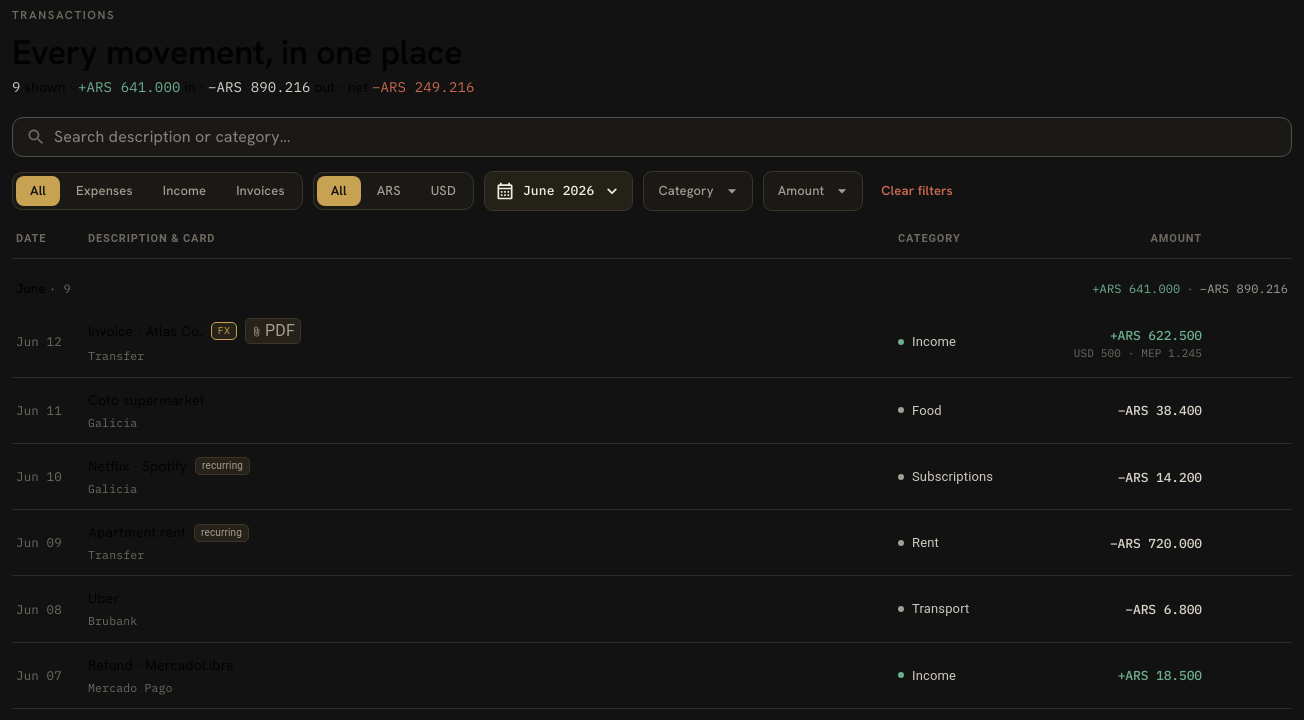
Test: TransactionsPage filtering › a type filter narrows rows and recomputes the totals
Click the button with aria-label "Month:" at (559,191), box top-left (484, 171), bottom-right (634, 211)
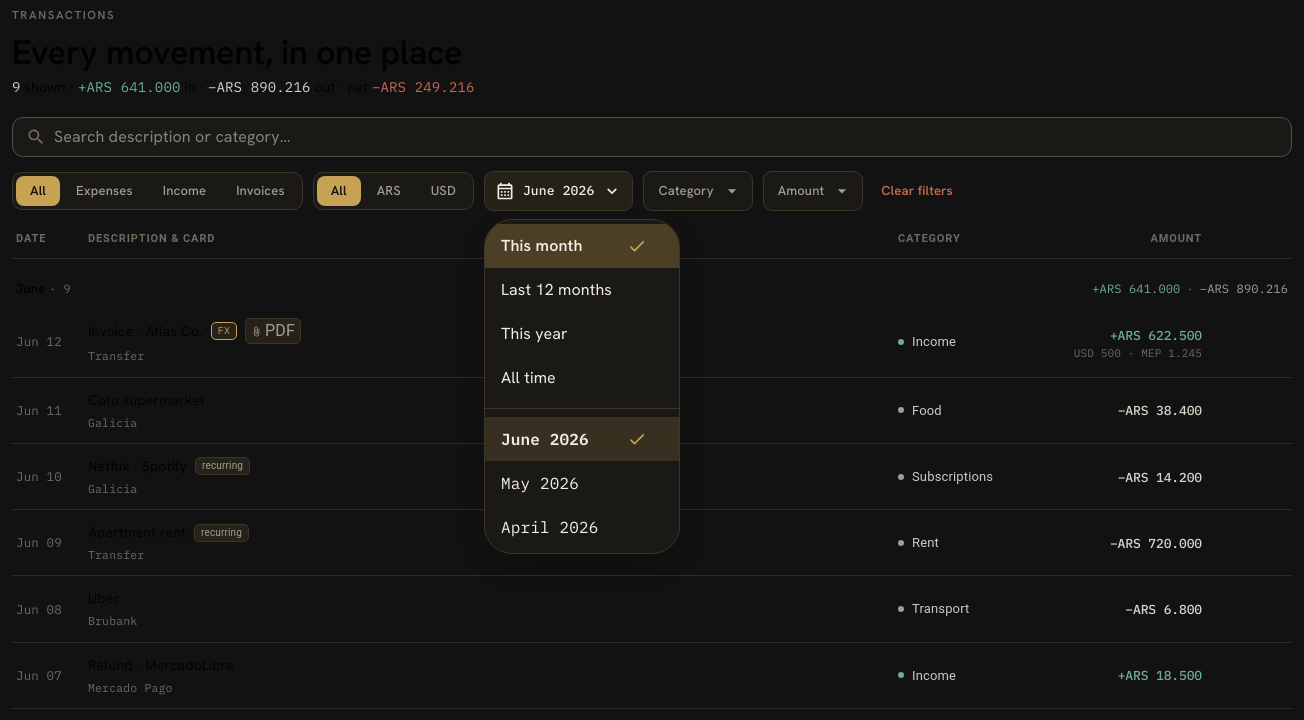
Click the menu item "All time" at (528,378), box top-left (501, 367), bottom-right (556, 388)
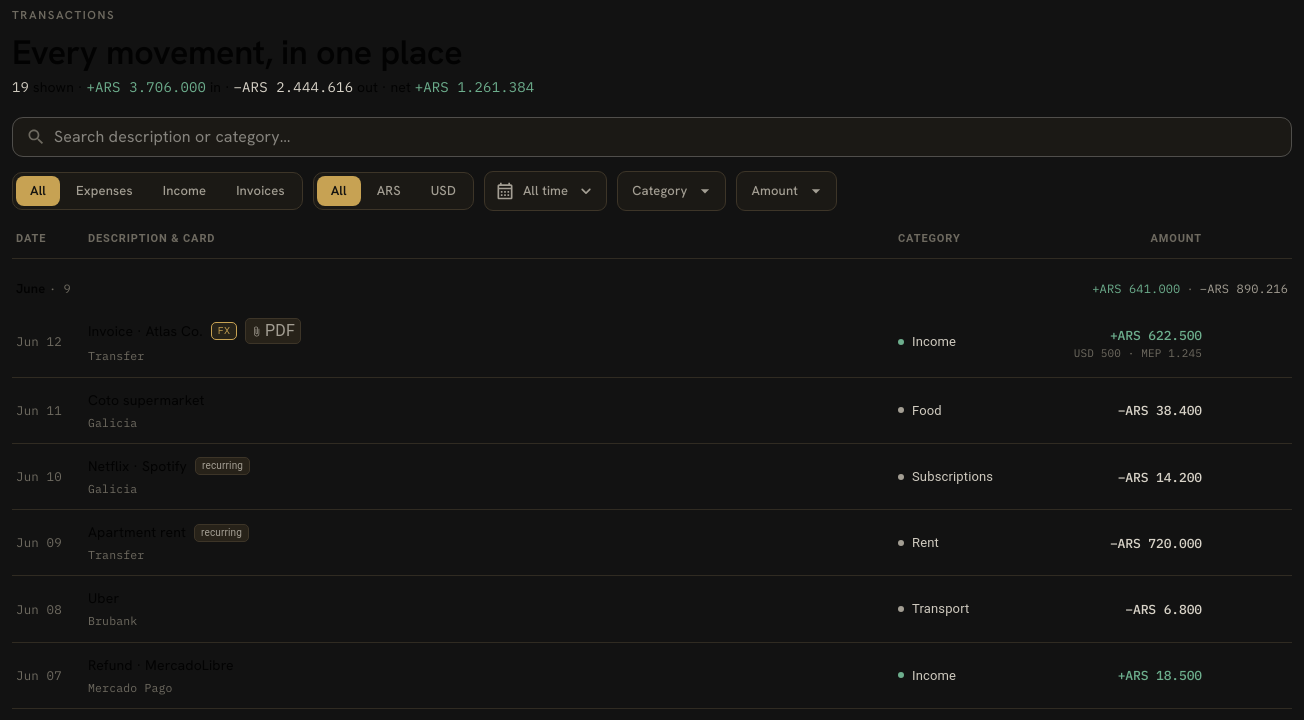
Click the button "Invoices" at (260,191), box top-left (222, 176), bottom-right (299, 206)
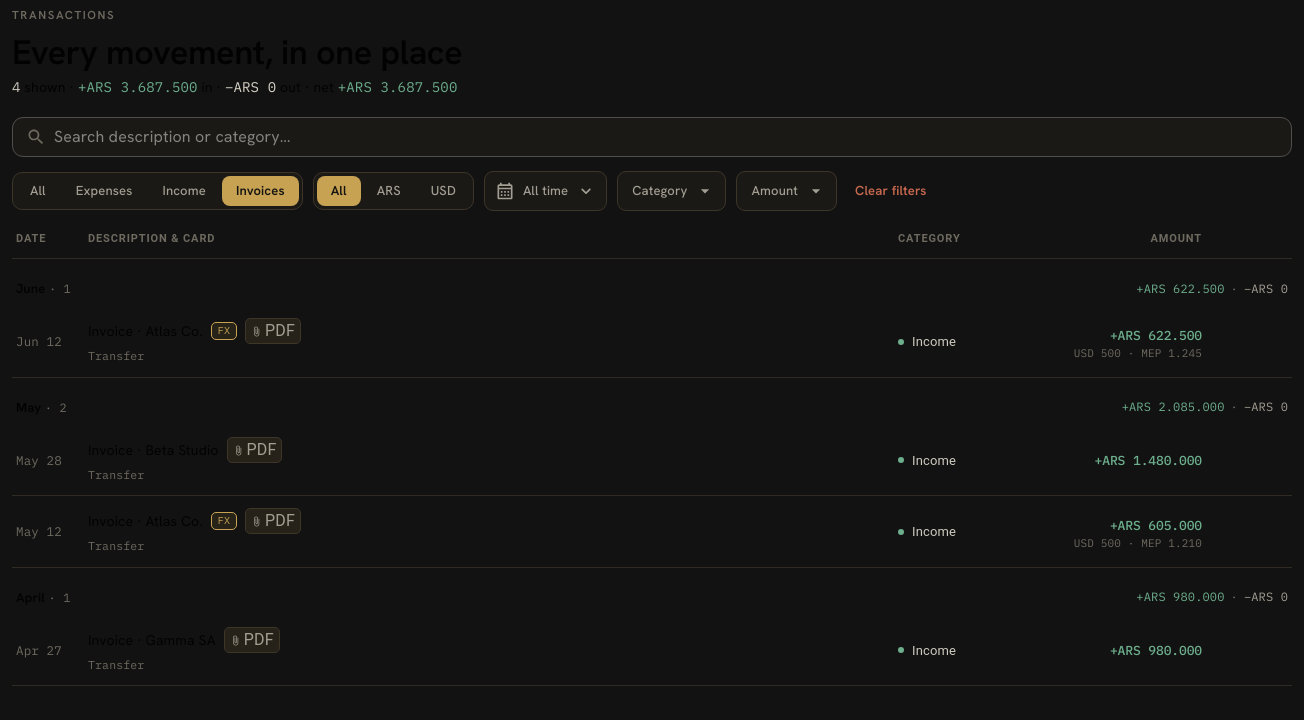
Expected: the text "Coto supermarket" is not shown
Expected: the text "shown" shows "−ARS 0 out", top-left (12, 78), bottom-right (458, 96)
